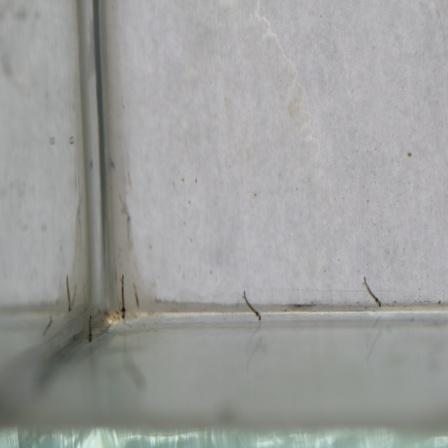Jentik-Nyamuk: (358, 274, 385, 312), (240, 288, 263, 322), (116, 269, 130, 324), (83, 312, 98, 344)
